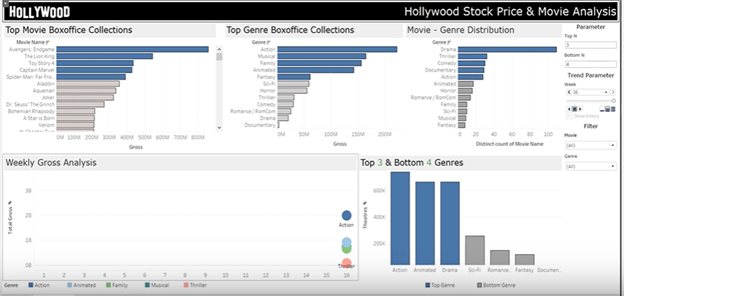

What the dashboard file says about the page in this screenshot:
{"tool":"tableau","page":{"name":"Data Analysis","canvas":[1000,1000],"units":"permille","ordinal":0},"visuals":[{"type":"text","box":[4.7,8.8,990.6,70.8]},{"type":"image","param":"Image/Holywodd White.JPG","box":[10.3,17.4,131,52.3]},{"type":"worksheet","title":"Movie Stats","mark":"Automatic","rows":["Movie Name"],"cols":["GROSS"],"box":[4.7,79.7,351.3,448.7]},{"type":"worksheet","title":"Genre Stats ","mark":"Automatic","rows":["Genre"],"cols":["GROSS"],"box":[356,79.7,286.6,448.7]},{"type":"worksheet","title":"Genre- Movie Count","mark":"Automatic","rows":["Genre"],"cols":["Movie Name"],"box":[642.6,79.7,252.1,448.7]},{"type":"text","box":[894.7,79.7,100.6,26.6]},{"type":"parameter","param":"[Parameters].[Week Parameter]","box":[894.7,106.2,100.6,57.5]},{"type":"parameter","param":"[Parameters].[Top N (copy)]","box":[894.7,163.7,100.6,57.5]},{"type":"text","box":[894.7,221.3,100.6,26.6]},{"type":"currpage","title":"Sheet 5 (2)","box":[894.7,247.8,100.6,121.7]},{"type":"text","box":[894.7,369.5,100.6,26.6]},{"type":"filter","title":"Movie Stats","param":"[federated.00k3pj80xxln5l1ghj5ax1qd9hs3].[none:Movie Name:nk]","box":[894.7,396,100.6,57.5]},{"type":"filter","title":"Genre Stats ","param":"[federated.00k3pj80xxln5l1ghj5ax1qd9hs3].[none:Genre:nk]","box":[894.7,453.6,100.6,57.5]},{"type":"blank","box":[894.7,511.1,100.6,480.1]},{"type":"worksheet","title":"Sheet 5 (2)","mark":"Circle","rows":["Total Gross"],"cols":["Week"],"box":[4.7,528.3,564,425.5]},{"type":"worksheet","title":"Top  and Bottom","mark":"Automatic","rows":["Theatres"],"box":[568.7,528.3,326,425.5]},{"type":"legend","title":"Sheet 5 (2)","param":"[federated.00k3pj80xxln5l1ghj5ax1qd9hs3].[none:Genre:nk]","box":[4.7,953.8,667.4,37.3]},{"type":"legend","title":"Top  and Bottom","param":"[federated.00k3pj80xxln5l1ghj5ax1qd9hs3].[io:Top Set:nk]","box":[672.1,953.8,222.6,37.3]}]}

Visuals, with their boxes on the dashboard's canvas, which has no fixed pixel size, in thousandths of its width and height (x1, y1, x2, y2). These are canvas units, not pixel positions in the 748x296 screenshot, which may show the page scaled, cropped or inside an application window:
text: [5, 9, 995, 80]
image: [10, 17, 141, 70]
"Movie Stats" worksheet: [5, 80, 356, 528]
"Genre Stats " worksheet: [356, 80, 643, 528]
"Genre- Movie Count" worksheet: [643, 80, 895, 528]
text: [895, 80, 995, 106]
parameter: [895, 106, 995, 164]
parameter: [895, 164, 995, 221]
text: [895, 221, 995, 248]
"Sheet 5 (2)" currpage: [895, 248, 995, 370]
text: [895, 370, 995, 396]
"Movie Stats" filter: [895, 396, 995, 454]
"Genre Stats " filter: [895, 454, 995, 511]
blank: [895, 511, 995, 991]
"Sheet 5 (2)" worksheet (Circle marks): [5, 528, 569, 954]
"Top  and Bottom" worksheet: [569, 528, 895, 954]
"Sheet 5 (2)" legend: [5, 954, 672, 991]
"Top  and Bottom" legend: [672, 954, 895, 991]
